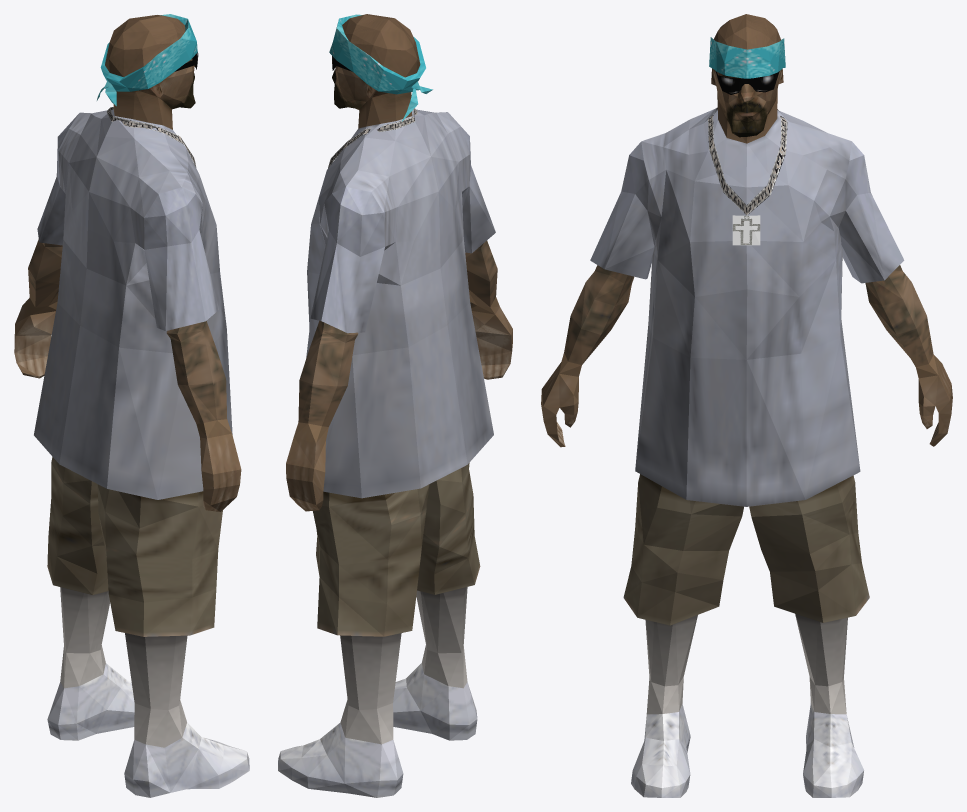
Rendered from vla3.obj.
3 renders of one model, left to right at view 1: azimuth 30°, elevation 25°; view 2: azimuth 150°, elevation 25°; view 3: azimuth 270°, elevation 25°, orthographic. The views are drawn at different scales.
Parts seen in each view (by area): view 1: _Pelvis; view 2: _Pelvis; view 3: _Pelvis.
Boxes of the visible parts, x1,y1,x2,y2 form: _Pelvis: [14, 14, 249, 797]; _Pelvis: [278, 14, 512, 797]; _Pelvis: [541, 14, 952, 797].
Bounding box in the file's own units: 0.4107 × 1.87 × 0.9228.
Materials: 2 (2 with a texture image).
